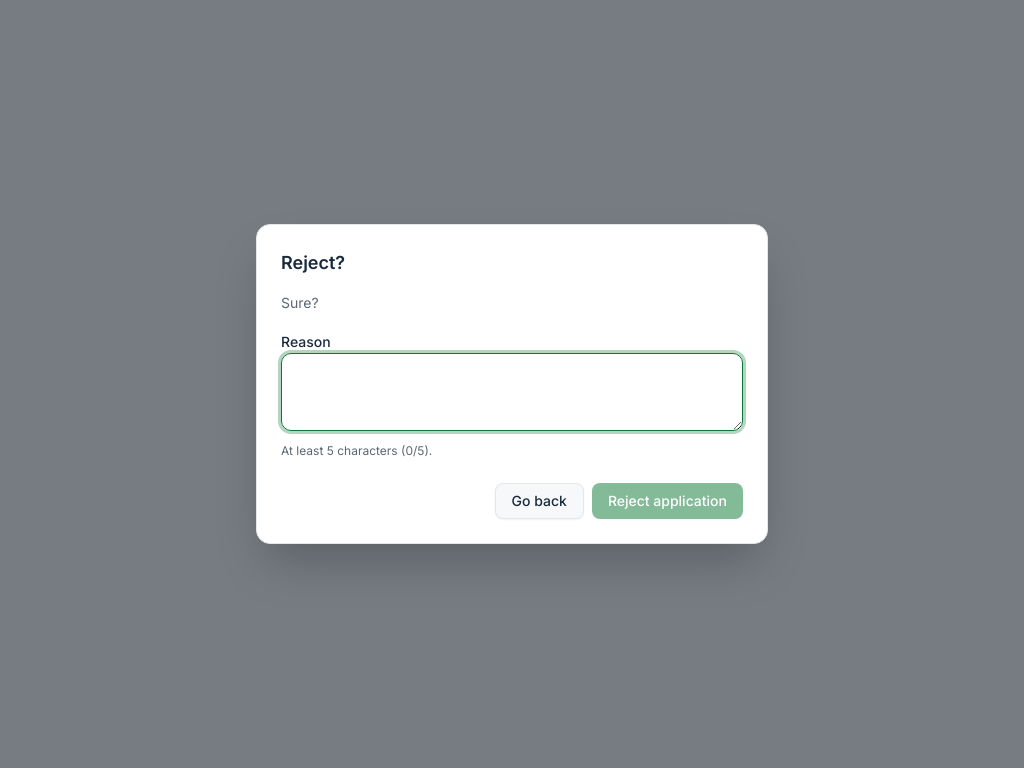
Test: keeps the confirm button off until a long enough reason is typed
Later steps or results of the test are not shown.
Check: the button "Reject application" is disabled, box 592,483 -> 743,519
Type "  Expired licence " into the text box labelled "Reason" at {"x": 512, "y": 392}, box 281,353 -> 743,431
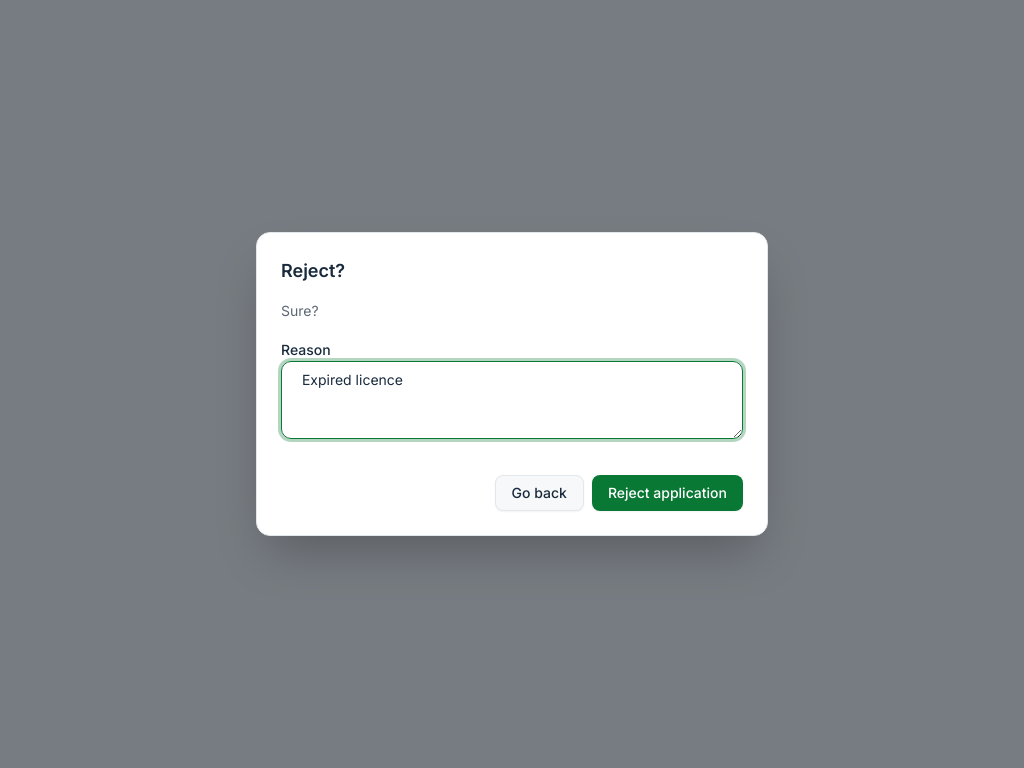
Check: the button "Reject application" is enabled, box 592,475 -> 743,511
